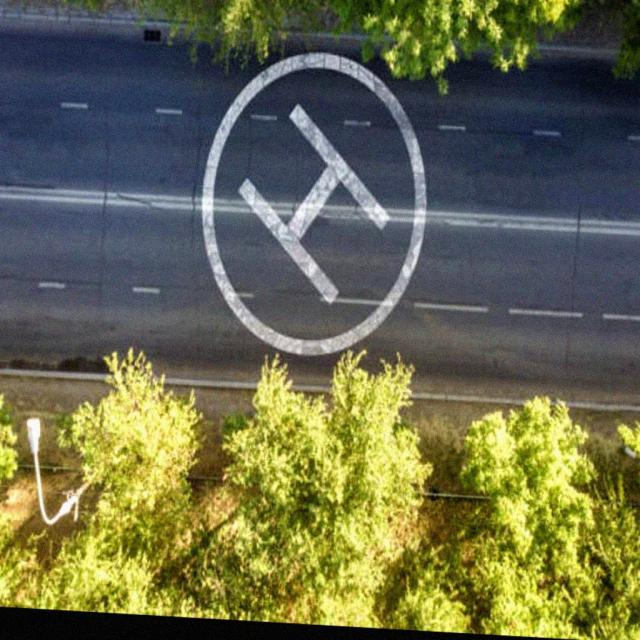helipad: (192, 44, 432, 364)
